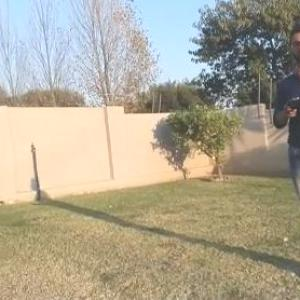follow: (267, 21, 299, 291)
